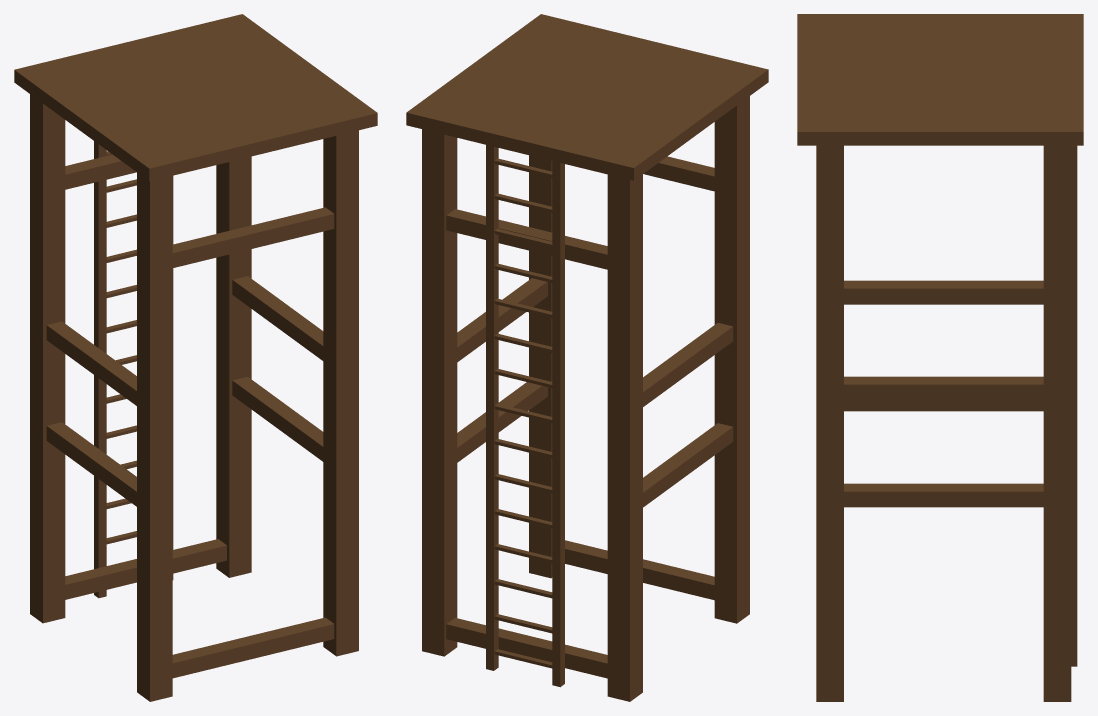
File: Ladder.fbx
The picture shows the model from 3 angles, left to right: view 1: azimuth 30°, elevation 25°; view 2: azimuth 150°, elevation 25°; view 3: azimuth 270°, elevation 25°; orthographic projection. The views are drawn at different scales.
Visible parts, largest first — view 1: Tower, Ladder; view 2: Tower, Ladder; view 3: Tower, Ladder.
Boxes of the visible parts, x1,y1,x2,y2 form: Tower: (14, 14, 377, 701); Ladder: (94, 141, 173, 598); Tower: (406, 14, 768, 701); Ladder: (486, 145, 564, 687); Tower: (797, 14, 1083, 701); Ladder: (1071, 145, 1077, 666).
Bounding box in the file's own units: 2.03 × 4.6 × 2.08.
